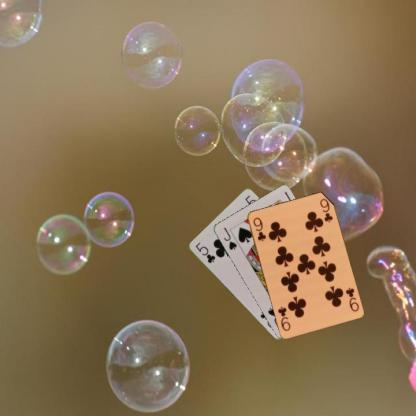5c: (192, 239, 216, 264)
9c: (342, 285, 361, 312), (250, 214, 267, 242)
Js: (220, 224, 238, 252)
